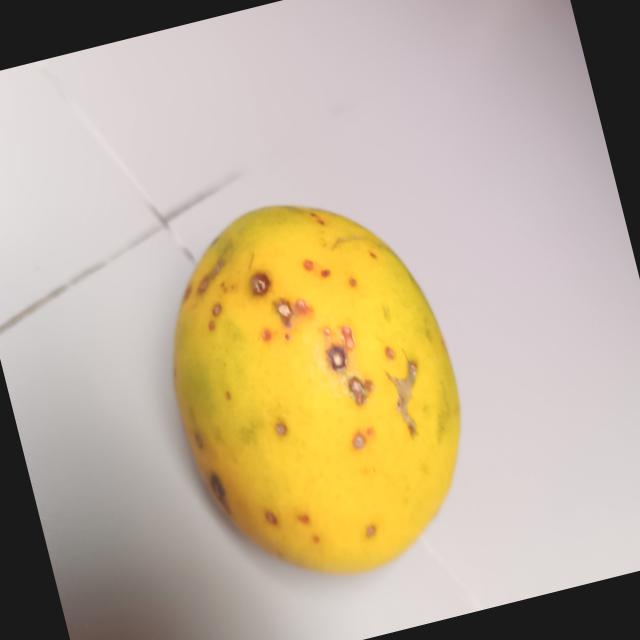agrume: (123, 156, 501, 611)
